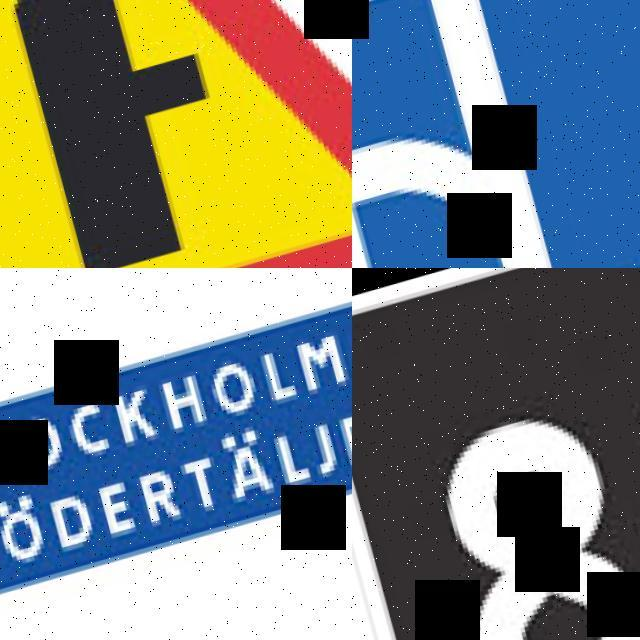100: (352, 268, 640, 640)
166: (0, 0, 352, 268)
5: (0, 268, 352, 616)
Direction to be followed: (352, 0, 640, 268)
